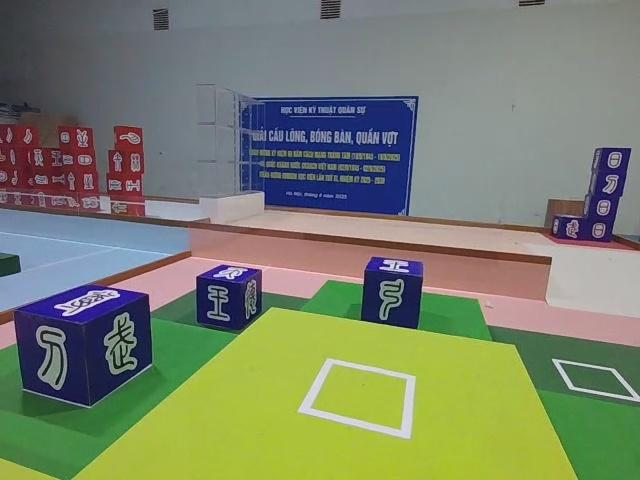R2 Fake Blue: (14, 285, 152, 409), (358, 255, 423, 330), (194, 263, 263, 331)
